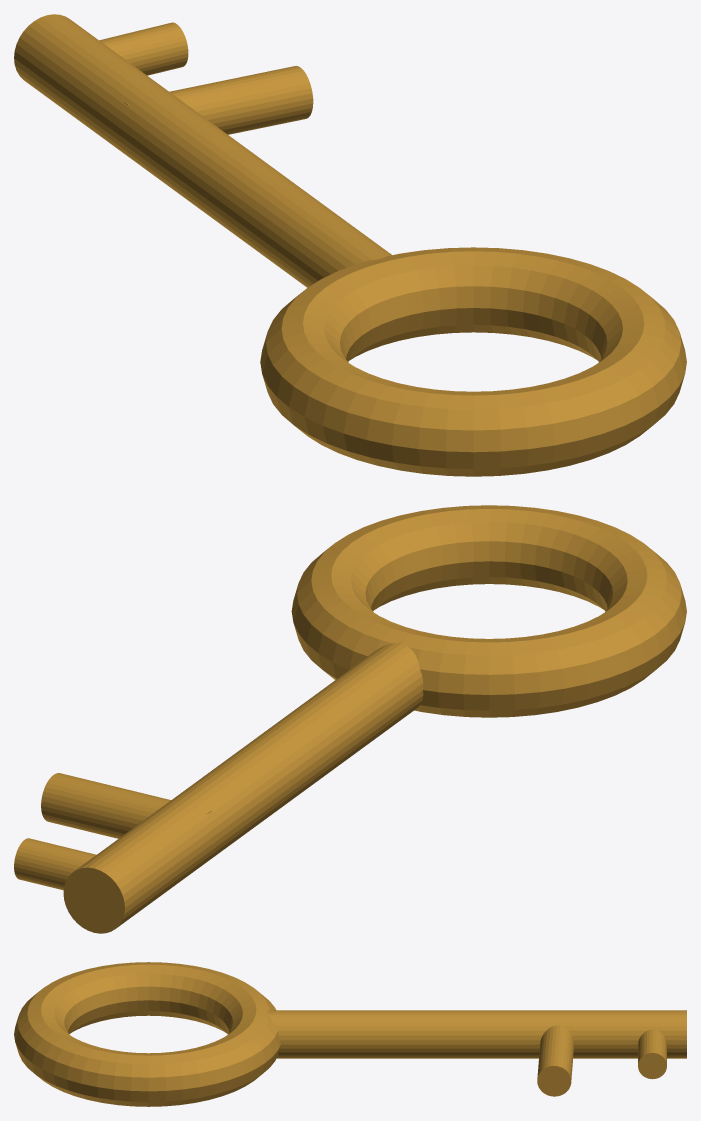
Rendered from key 1.0.fbx.
The picture shows the model from 3 angles, top to bottom: view 1: azimuth 30°, elevation 25°; view 2: azimuth 150°, elevation 25°; view 3: azimuth 270°, elevation 25°; orthographic projection. The views are drawn at different scales.
Visible parts, largest first — view 1: Torus; view 2: Torus; view 3: Torus.
Boxes of the visible parts, x1,y1,x2,y2 form: Torus: [14, 14, 686, 476]; Torus: [14, 505, 686, 933]; Torus: [14, 962, 686, 1106].
Size of the model in its own units: 91.5 by 18.3 by 229.
